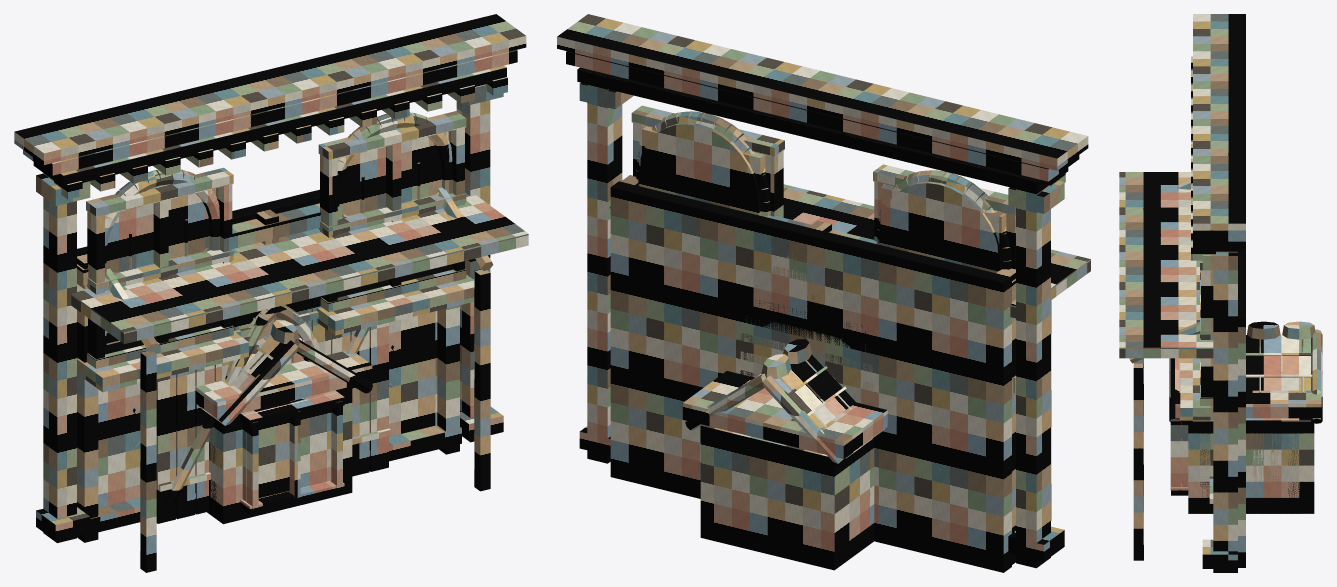
Rendered from joinery.glb.
3 renders of one model, left to right at view 1: azimuth 30°, elevation 25°; view 2: azimuth 150°, elevation 25°; view 3: azimuth 270°, elevation 25°, orthographic. The views are drawn at different scales.
Visible parts, largest first — view 1: patriciate_facade_01, farm_barn_01__facade_and_shelter, dormer_02, patriciate_facade_02, dormer_01; view 2: farm_barn_01__facade_and_shelter, patriciate_facade_01, dormer_01, patriciate_facade_02, dormer_02, timber_panel_01, opening_06, opening_05, opening_04; view 3: patriciate_facade_01, farm_barn_01__facade_and_shelter, dormer_01, dormer_02.
Boxes of the visible parts, <box> form: patriciate_facade_01: <box>14,14,526,543</box>; farm_barn_01__facade_and_shelter: <box>71,187,528,572</box>; dormer_02: <box>195,350,372,524</box>; patriciate_facade_02: <box>105,112,453,364</box>; dormer_01: <box>199,318,372,519</box>; farm_barn_01__facade_and_shelter: <box>609,175,1090,572</box>; patriciate_facade_01: <box>557,14,1088,568</box>; dormer_01: <box>685,339,884,570</box>; patriciate_facade_02: <box>636,111,1011,272</box>; dormer_02: <box>683,371,887,565</box>; timber_panel_01: <box>668,258,946,557</box>; opening_06: <box>740,248,874,406</box>; opening_05: <box>748,319,866,403</box>; opening_04: <box>807,329,862,403</box>; patriciate_facade_01: <box>1180,14,1245,572</box>; farm_barn_01__facade_and_shelter: <box>1119,172,1245,567</box>; dormer_01: <box>1169,321,1322,513</box>; dormer_02: <box>1170,390,1321,513</box>.
Size of the model in its own units: 5.6 by 4.57 by 2.29.
1 material, 1 textured.
